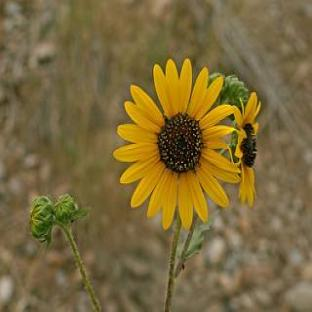sunflower: (112, 58, 241, 312)
